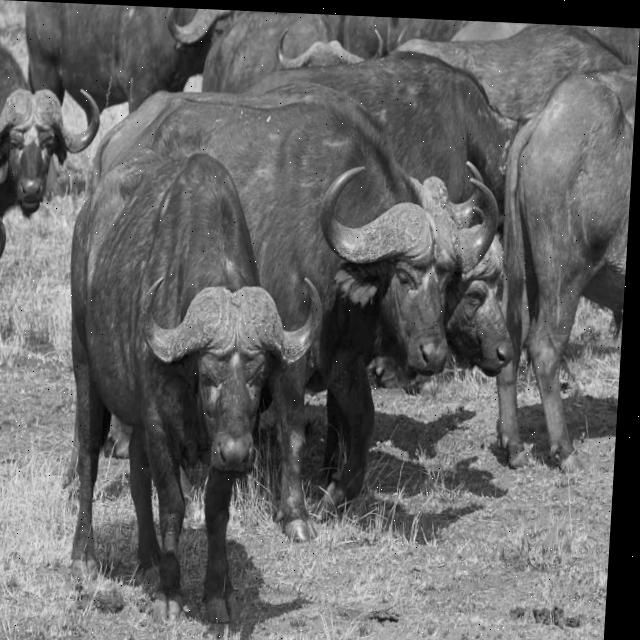Buffalo: (67, 83, 506, 553), (47, 143, 333, 631), (487, 63, 637, 479), (0, 43, 105, 224)
